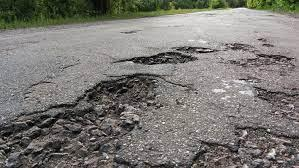pothole: (0, 26, 299, 168)
